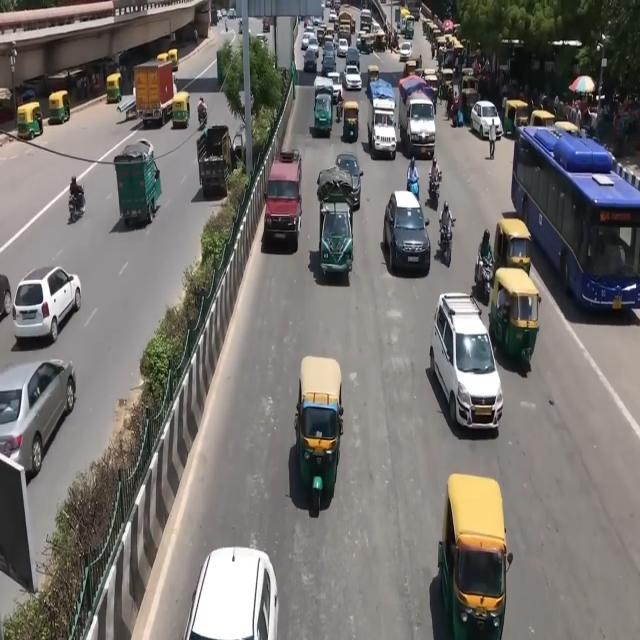auto: (438, 471, 510, 636), (295, 356, 344, 508), (496, 267, 538, 370), (492, 216, 532, 280), (460, 70, 481, 120), (17, 101, 44, 139), (503, 98, 529, 137), (313, 90, 333, 138), (48, 90, 70, 124), (342, 100, 359, 142), (172, 91, 190, 129), (437, 67, 454, 102), (422, 69, 440, 101), (106, 72, 122, 104), (358, 31, 374, 54), (401, 59, 417, 80), (373, 28, 386, 52), (167, 48, 179, 72), (368, 64, 380, 87), (316, 25, 326, 45)
bike-auto: (477, 230, 494, 309), (439, 200, 455, 250), (69, 174, 85, 219), (429, 158, 442, 200), (408, 156, 420, 198), (198, 96, 208, 126), (336, 88, 344, 120)
